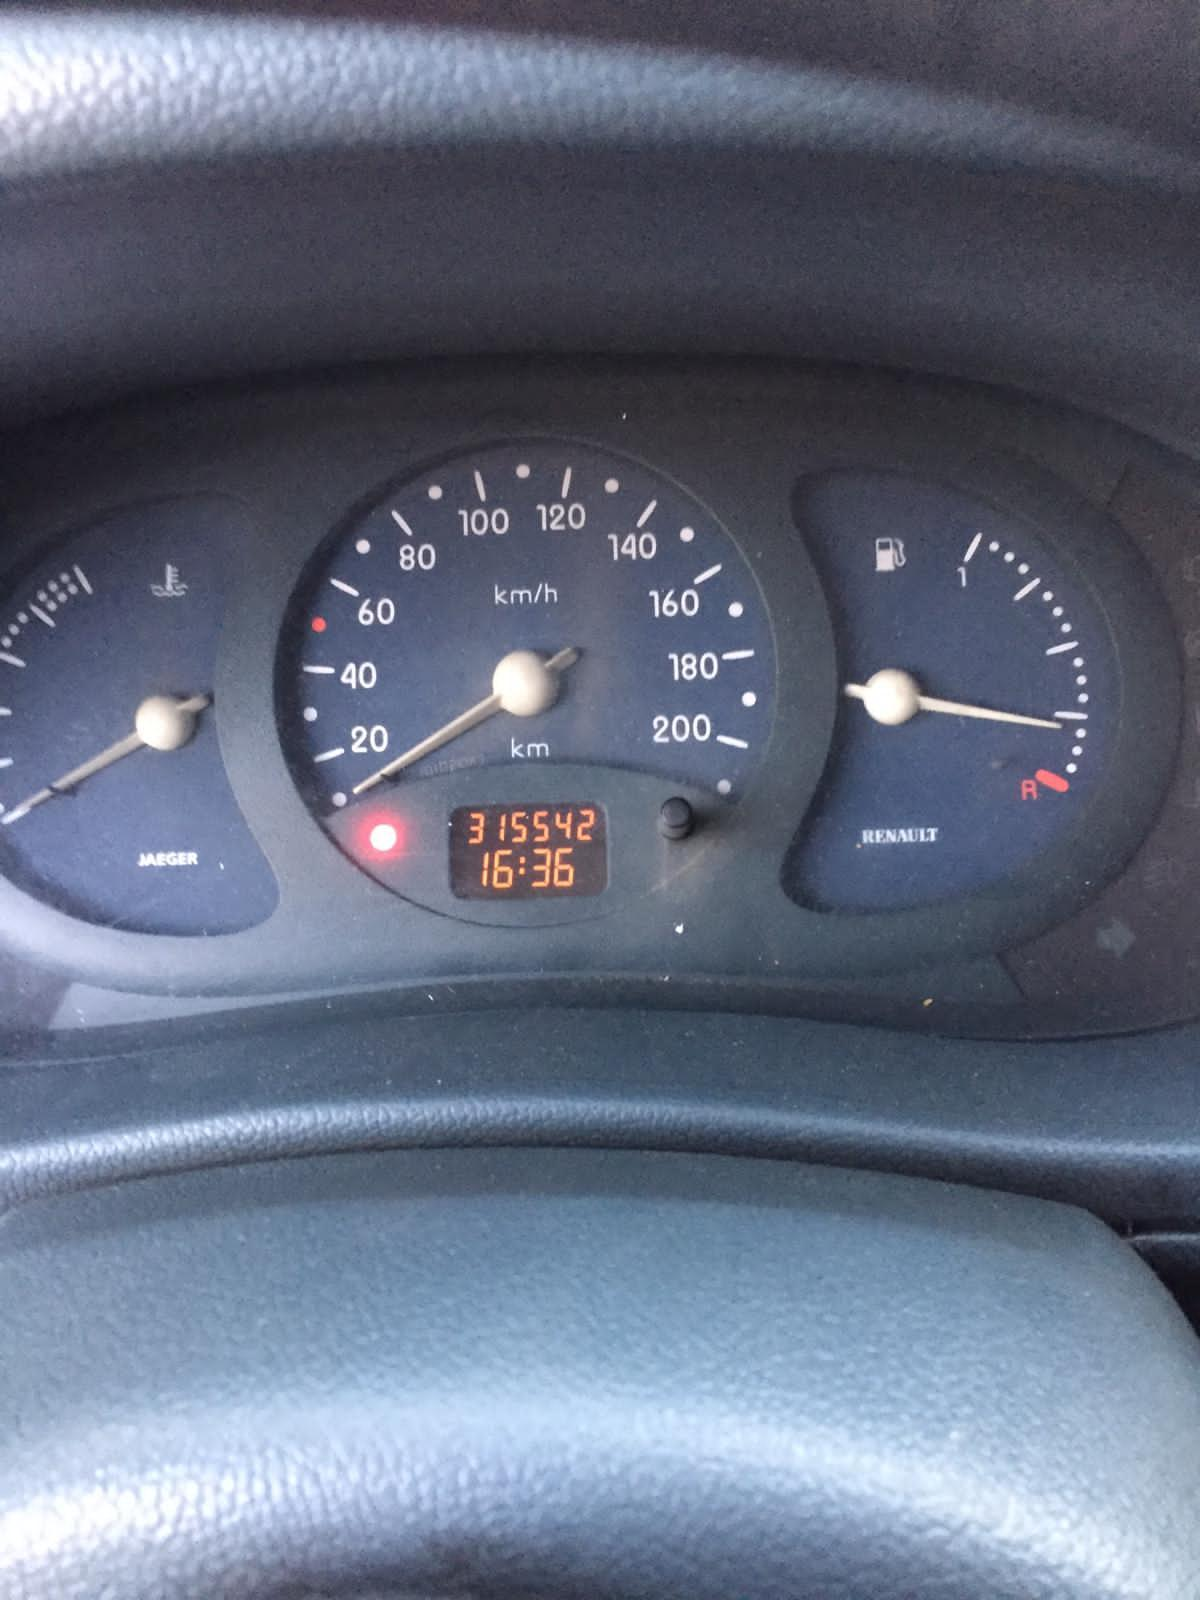1: (480, 850, 489, 888), (497, 813, 505, 842)
2: (576, 809, 595, 840)
3: (529, 847, 552, 888), (466, 811, 485, 845)
4: (555, 810, 574, 839)
5: (511, 810, 528, 844), (532, 810, 550, 842)
6: (492, 848, 513, 889), (552, 847, 574, 887)
X: (518, 855, 527, 876)
odometer: (444, 797, 613, 905)
